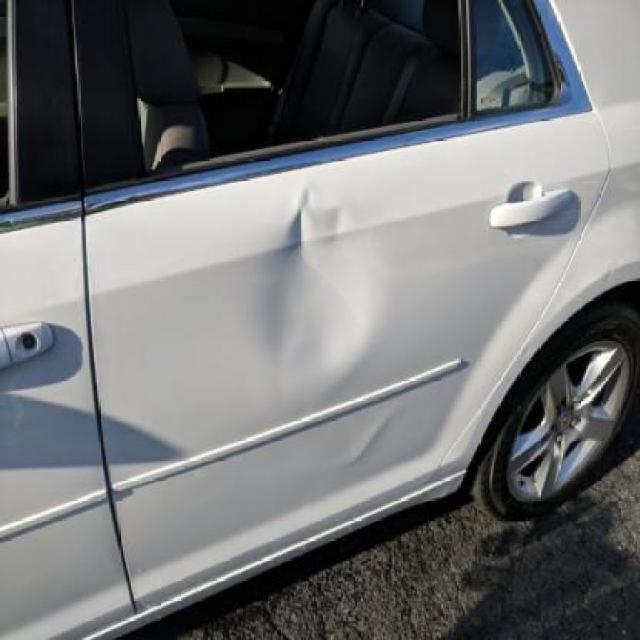minor: (357, 415, 395, 466)
moderate: (265, 182, 365, 394)
